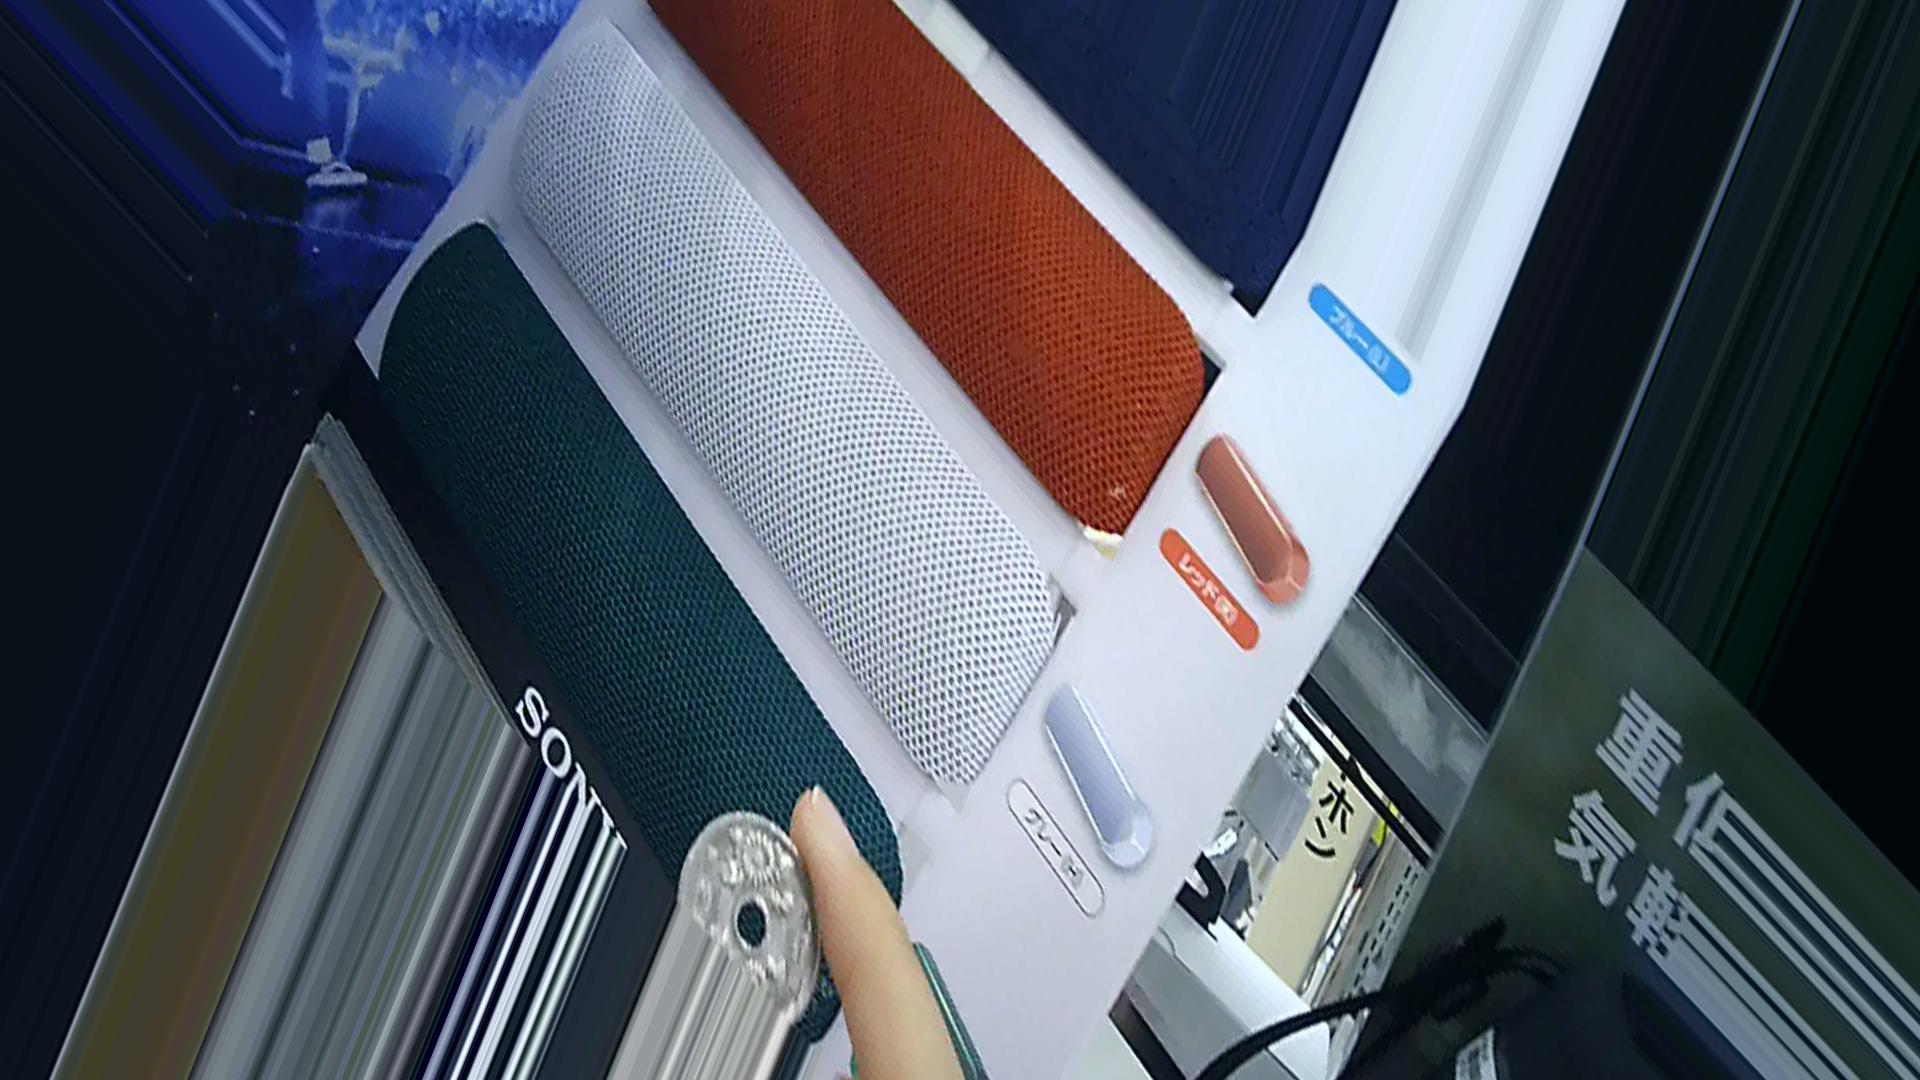50 Yen: (665, 802, 823, 1034)
